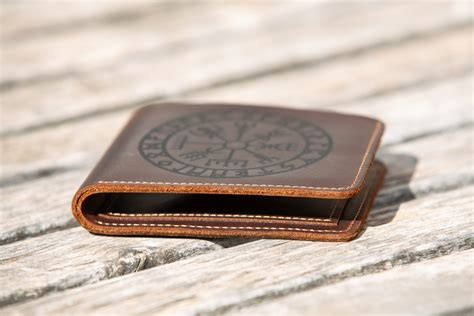cuero: (71, 100, 390, 242)
